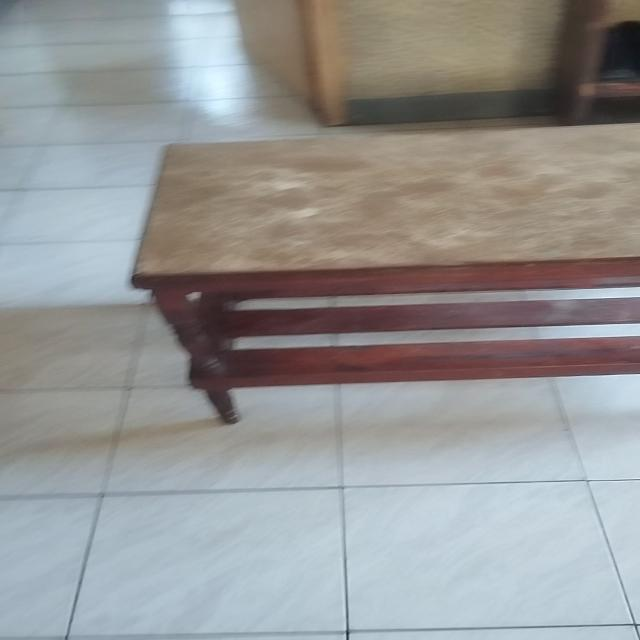table: (121, 117, 640, 437)
